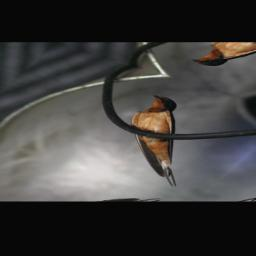Swallow: (78, 91, 253, 189)
